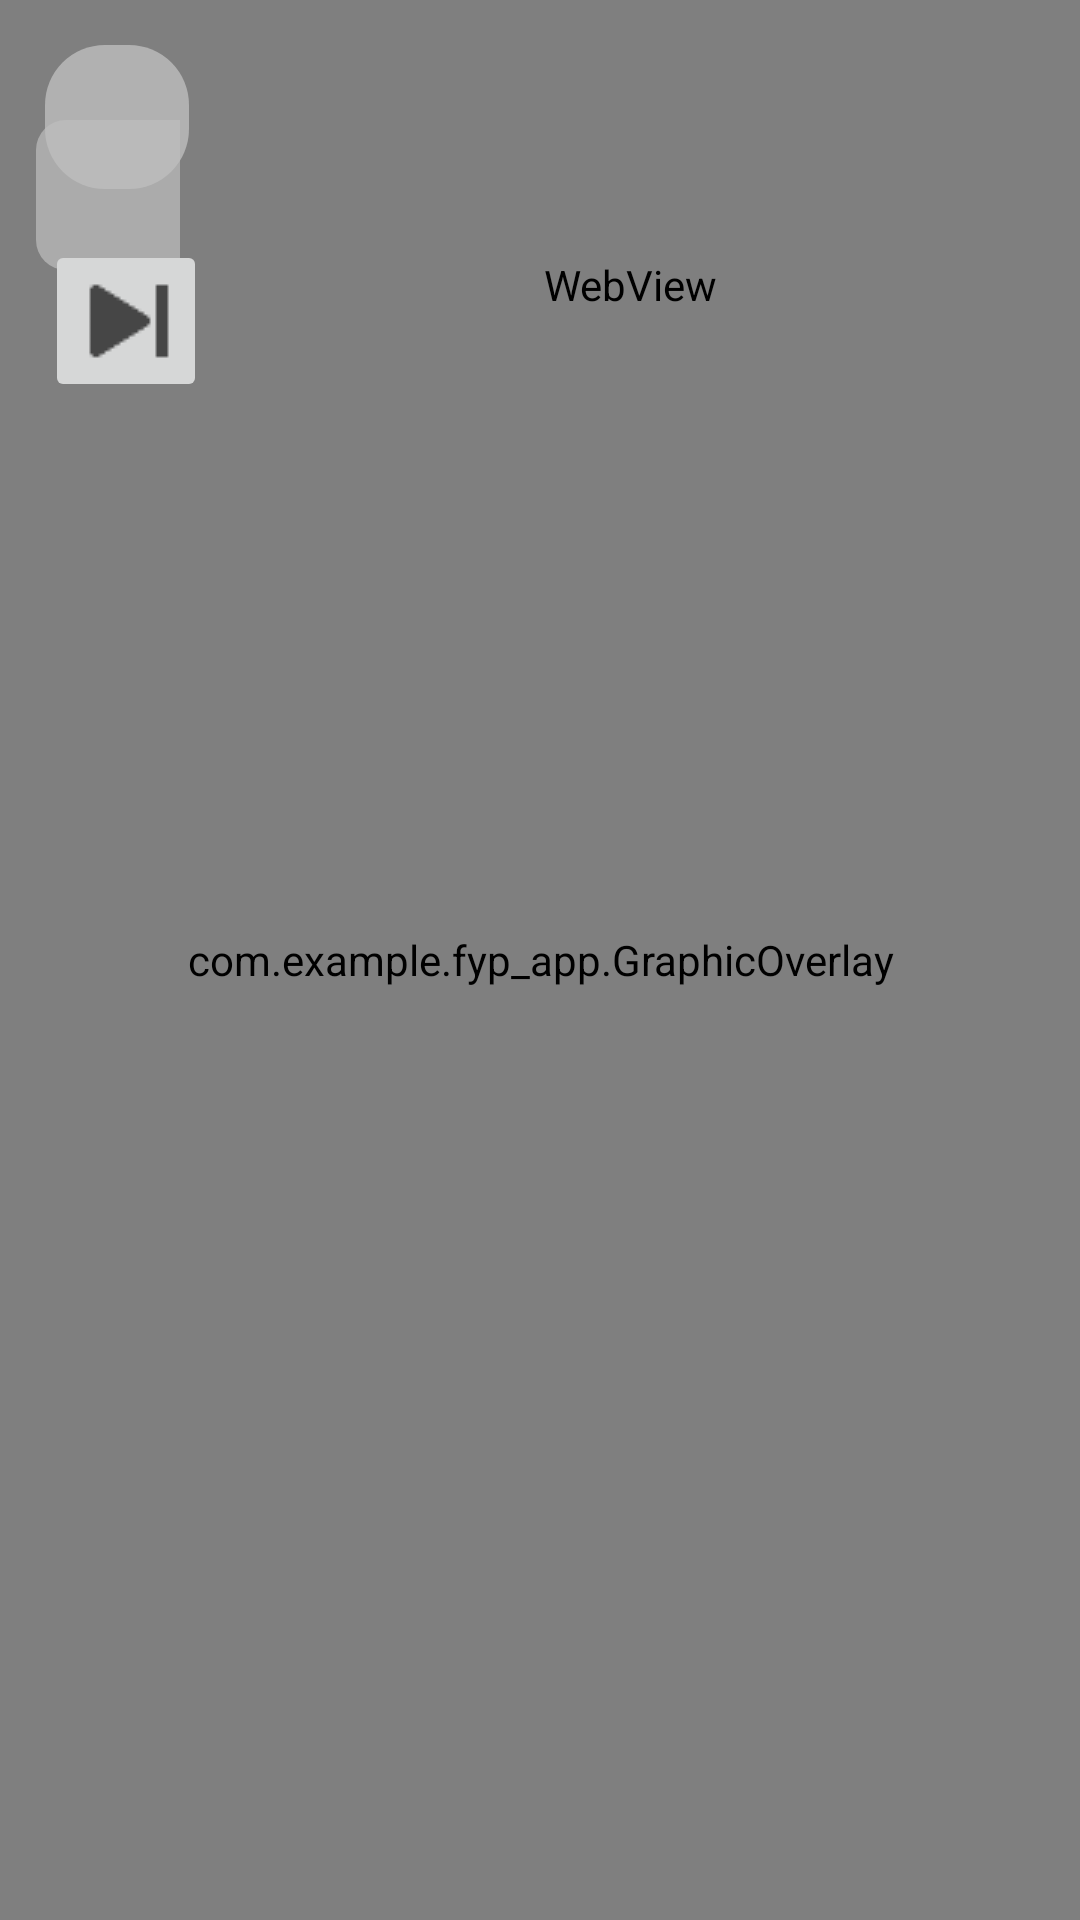

Locate icon controls on the screen. Image size 1080×1920, boxes as region(x1, y1, x2, y2).
skip: region(45, 240, 195, 384)
